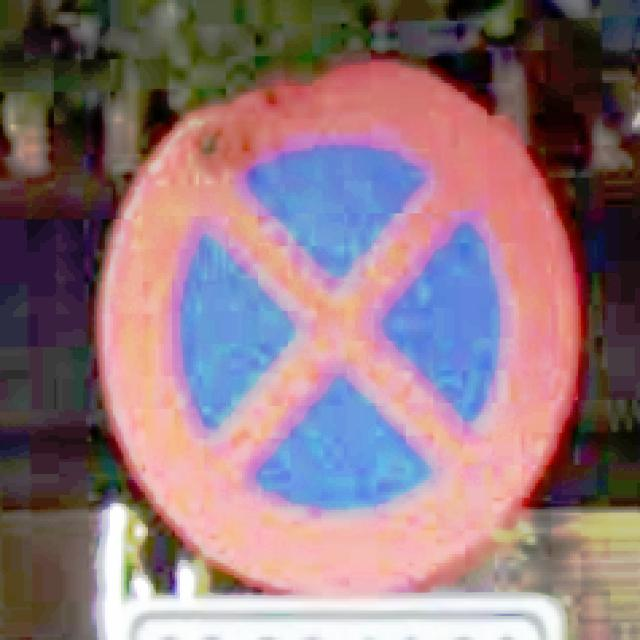nopark: (94, 53, 581, 601)
